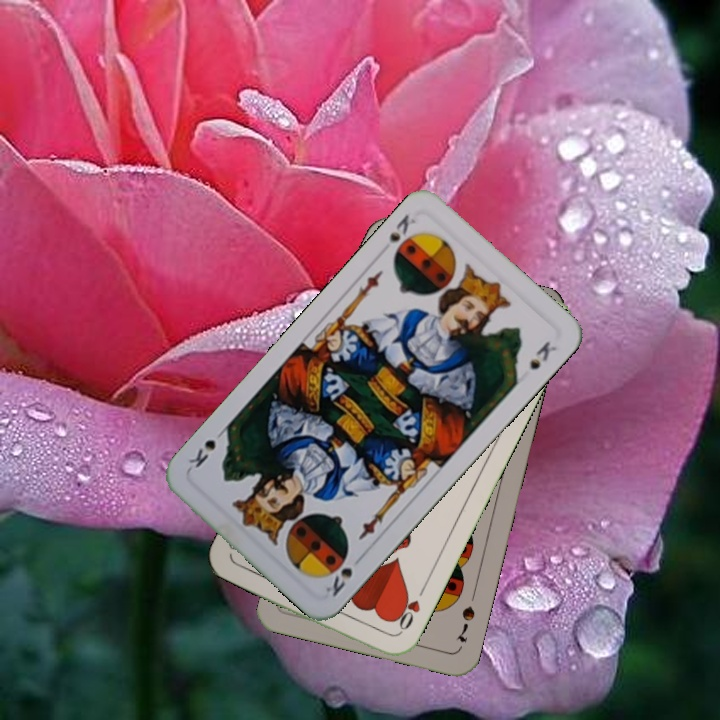HO: (389, 583, 428, 638)
S7: (452, 601, 478, 646)
SK: (321, 563, 355, 600), (385, 210, 418, 246)
